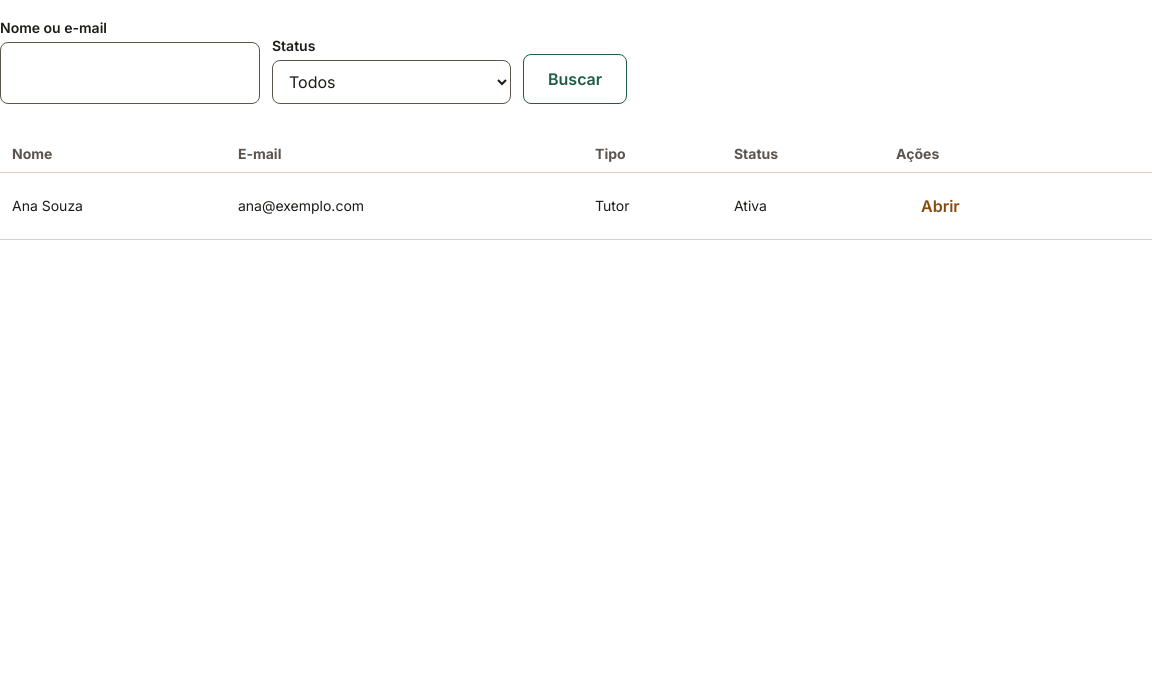
Gestão de contas na administração (UC-28) › CT-28-01: deve suspender a conta com motivo e mostrar o histórico
Click the button with aria-label "Abrir a conta de Ana Souza". click: click(940, 206)
box: [896, 181, 985, 231]
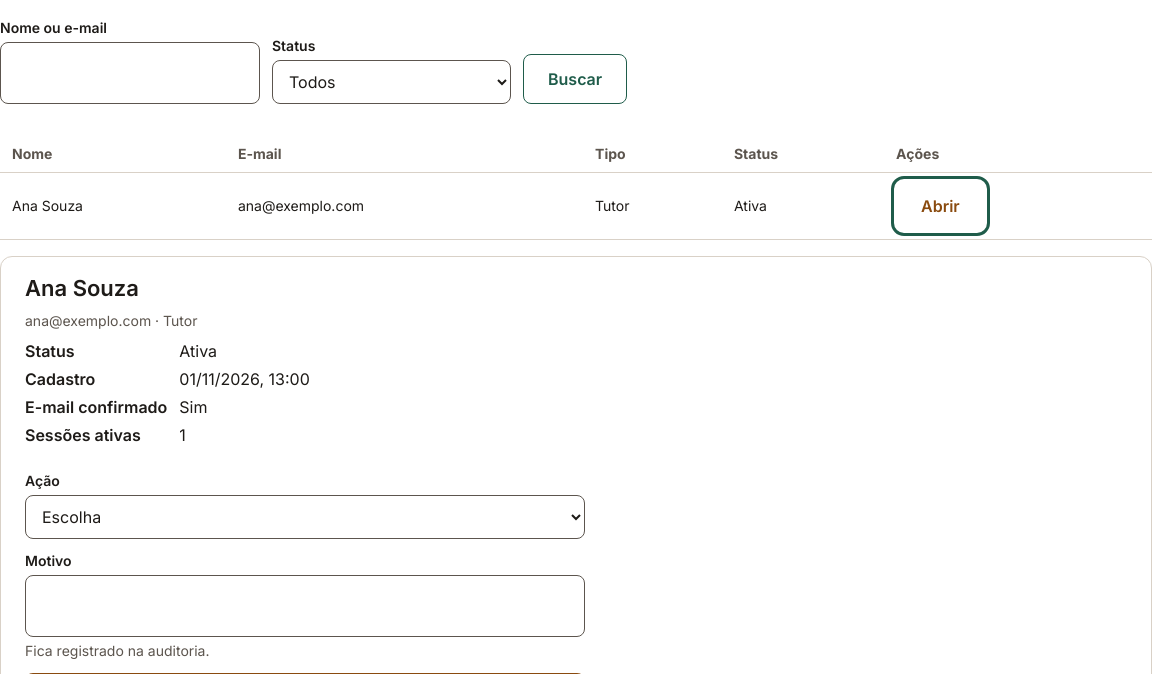
Result: the text "Sessões ativas" is shown at [25, 425, 141, 445]
Select "Suspender" in the dropdown labelled "Ação". click: (305, 517)
box: [25, 495, 585, 539]
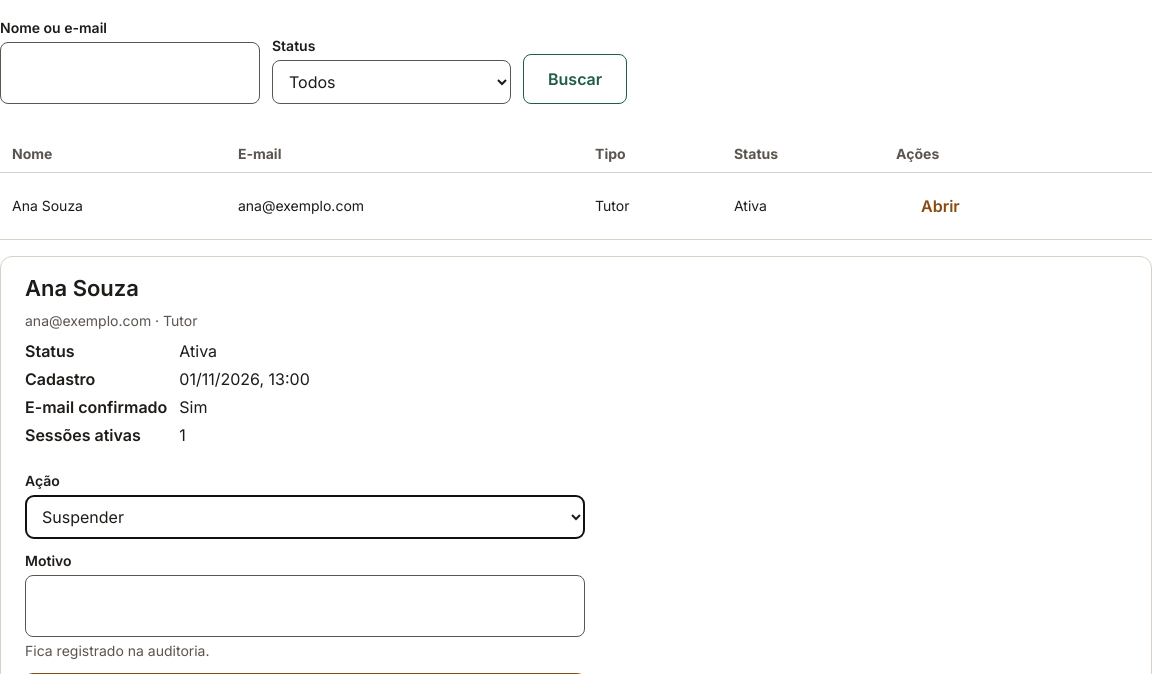
Type "Denúncia de spam" into the field labelled "Motivo". click: (305, 606)
box: [25, 575, 585, 637]
(page scrolled)
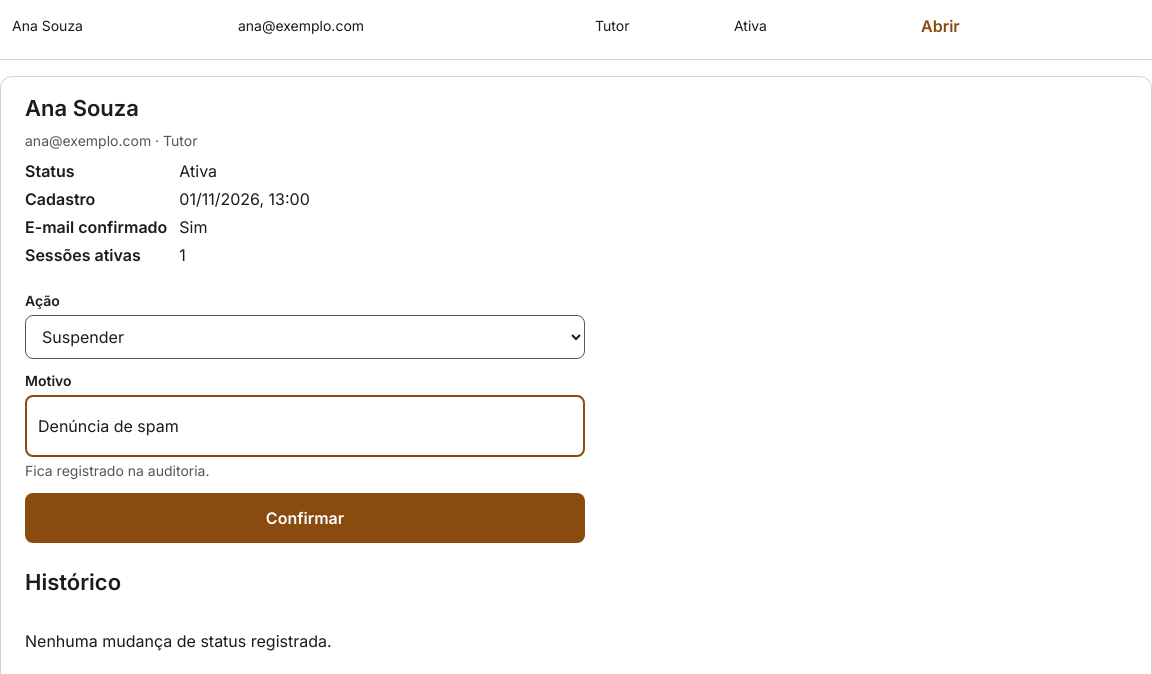
Click the button "Confirmar". click: click(305, 518)
box: [25, 493, 585, 543]
(page scrolled)
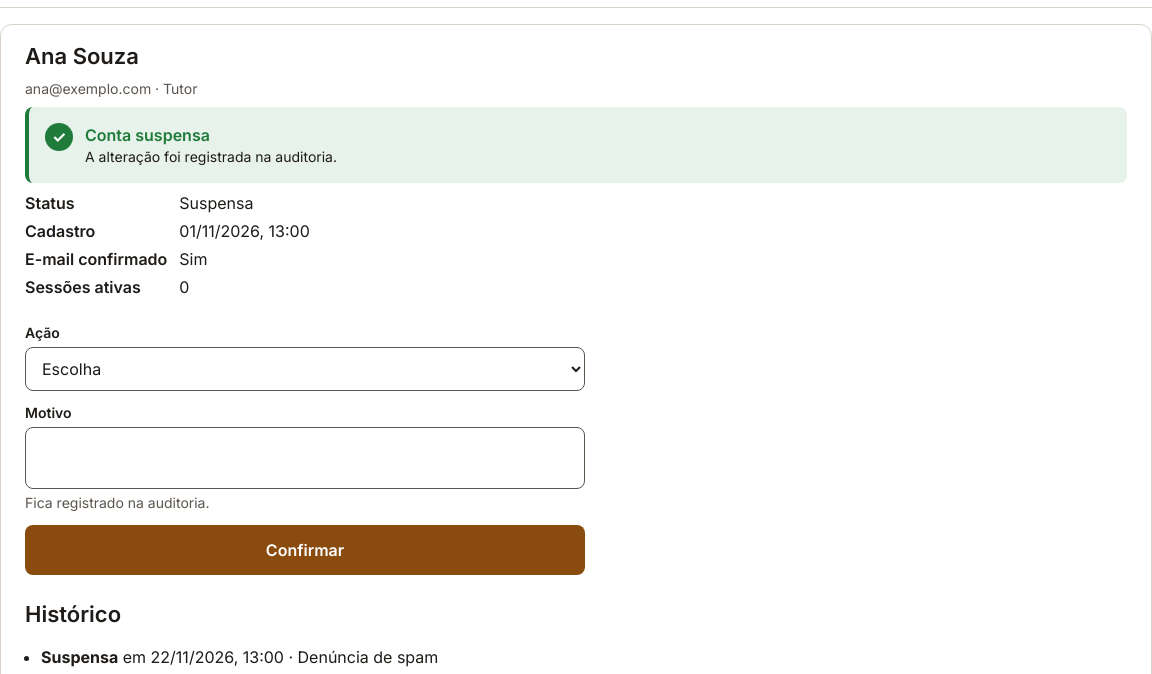
Result: the text "Conta suspensa" is shown at [84, 124, 210, 145]
Result: the list item "Suspensa em 22/11/2026, 13:00 · Denúncia de spam" is shown at [41, 647, 438, 667]
